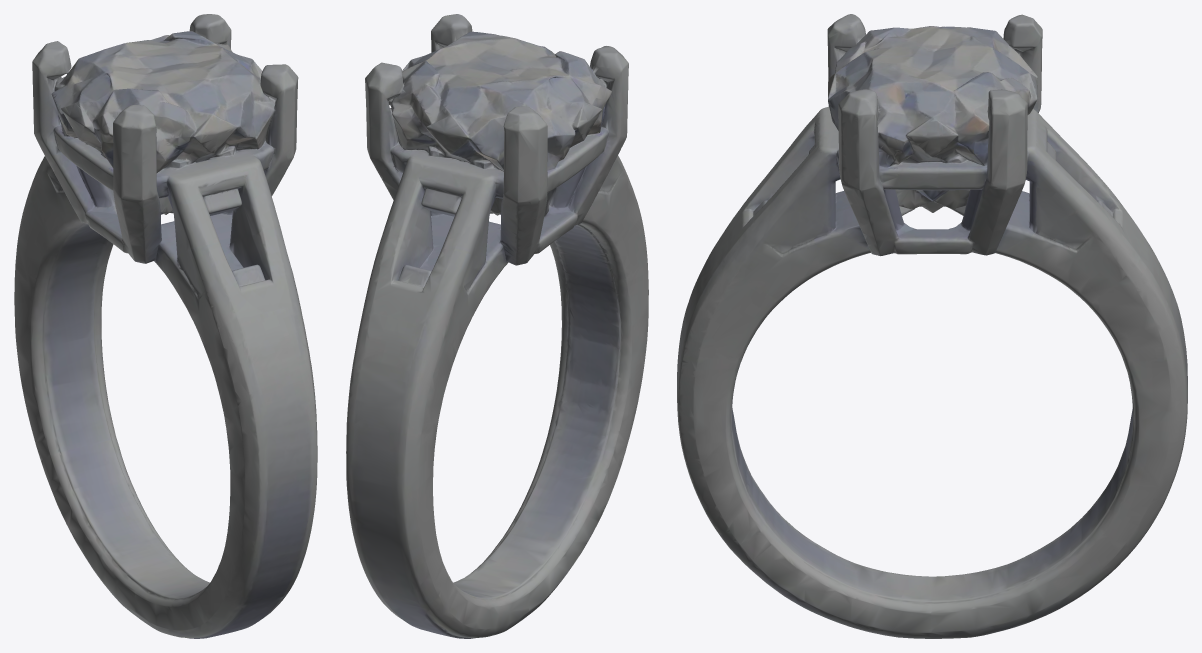
File: aiprintgen_Solitaire Ring 3D Asset for Engine Levels in Games-preview.glb
3 views of the same model, side by side, from view 1: azimuth 30°, elevation 25°; view 2: azimuth 150°, elevation 25°; view 3: azimuth 270°, elevation 25° (orthographic). The views are drawn at different scales.
Parts seen in each view (by area): view 1: aiprintgen_node_613ab23f-d50d-459d-8b35-df7942fbf49a; view 2: aiprintgen_node_613ab23f-d50d-459d-8b35-df7942fbf49a; view 3: aiprintgen_node_613ab23f-d50d-459d-8b35-df7942fbf49a.
Boxes of the visible parts, x1=… form: aiprintgen_node_613ab23f-d50d-459d-8b35-df7942fbf49a: x1=14, y1=14, x2=317, y2=638; aiprintgen_node_613ab23f-d50d-459d-8b35-df7942fbf49a: x1=346, y1=14, x2=648, y2=638; aiprintgen_node_613ab23f-d50d-459d-8b35-df7942fbf49a: x1=677, y1=14, x2=1187, y2=638.
Bounding box in the file's own units: 0.3554 × 0.9999 × 0.8.
1 material, 1 textured.
